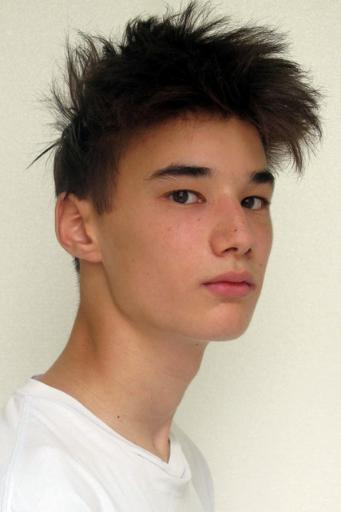left_eye: (240, 195, 270, 213)
left_lip_corner: (247, 278, 258, 296)
right_eye: (161, 187, 208, 211)
right_lip_corner: (198, 278, 212, 296)
